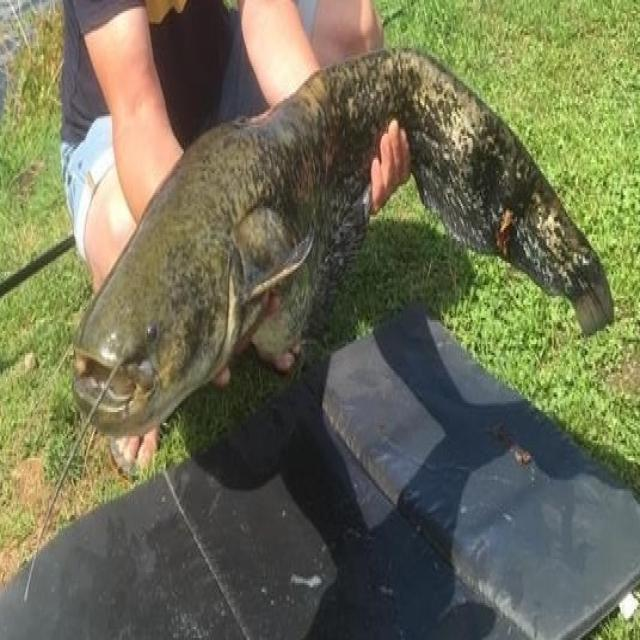Catfish: (54, 36, 631, 462)
